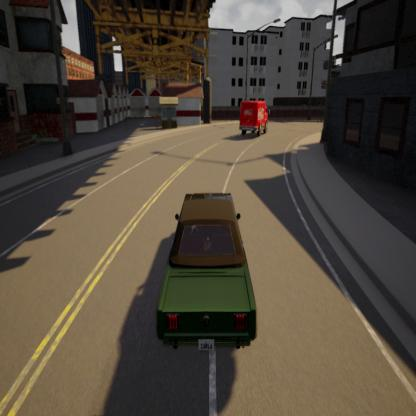Cars: (158, 194, 257, 352), (240, 98, 270, 136)
